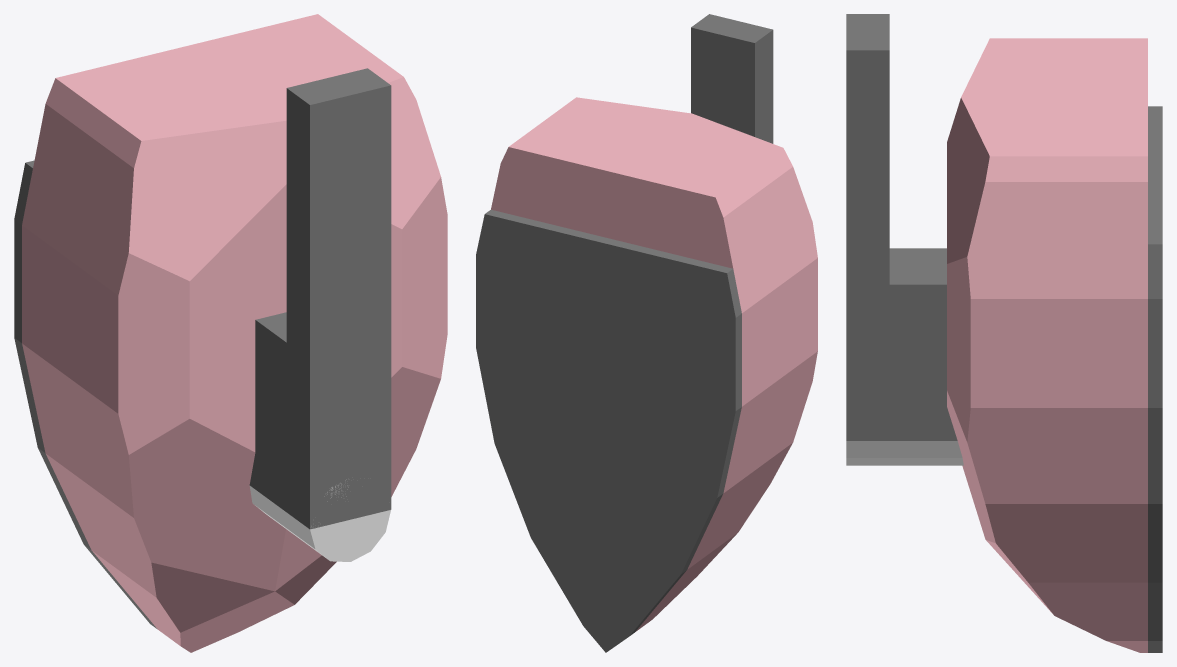
File: nil_link_mesh.dae
The picture shows the model from 3 angles, left to right: view 1: azimuth 30°, elevation 25°; view 2: azimuth 150°, elevation 25°; view 3: azimuth 270°, elevation 25°; orthographic projection. The views are drawn at different scales.
Parts seen in each view (by area): view 1: nil_link (×5); view 2: nil_link (×3); view 3: nil_link (×5).
Boxes of the visible parts, x1,y1,x2,y2 form: nil_link (×5): (14,14,447,652); nil_link (×3): (476,14,817,652); nil_link (×5): (846,14,1162,652).
Size of the model in its own units: 0.1218 by 0.2384 by 0.11.
